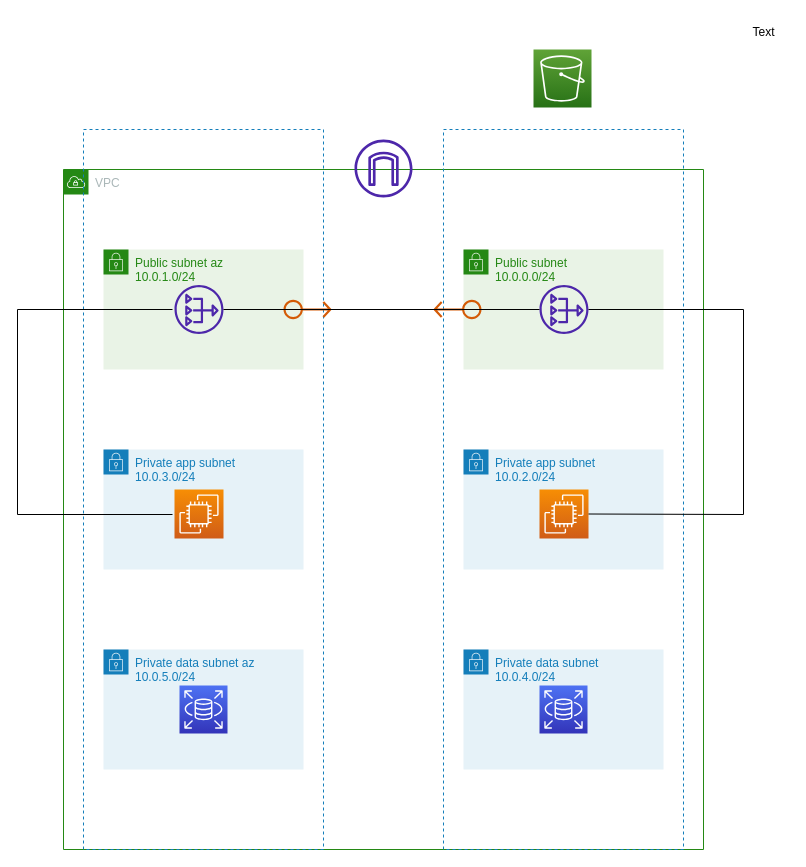
Image size: 806x867. Some labels were removed from this diagram. The shapes that lost their labels are listed below. From the top down, each one's box as (x1, y1, x2, y2) in pixels, then its label:
(82, 128, 324, 850): Availability Zone 02
(442, 128, 684, 850): Availability Zone 01
